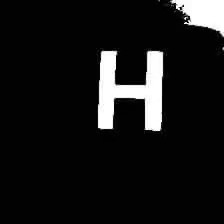LTR_H: (86, 46, 170, 137)
